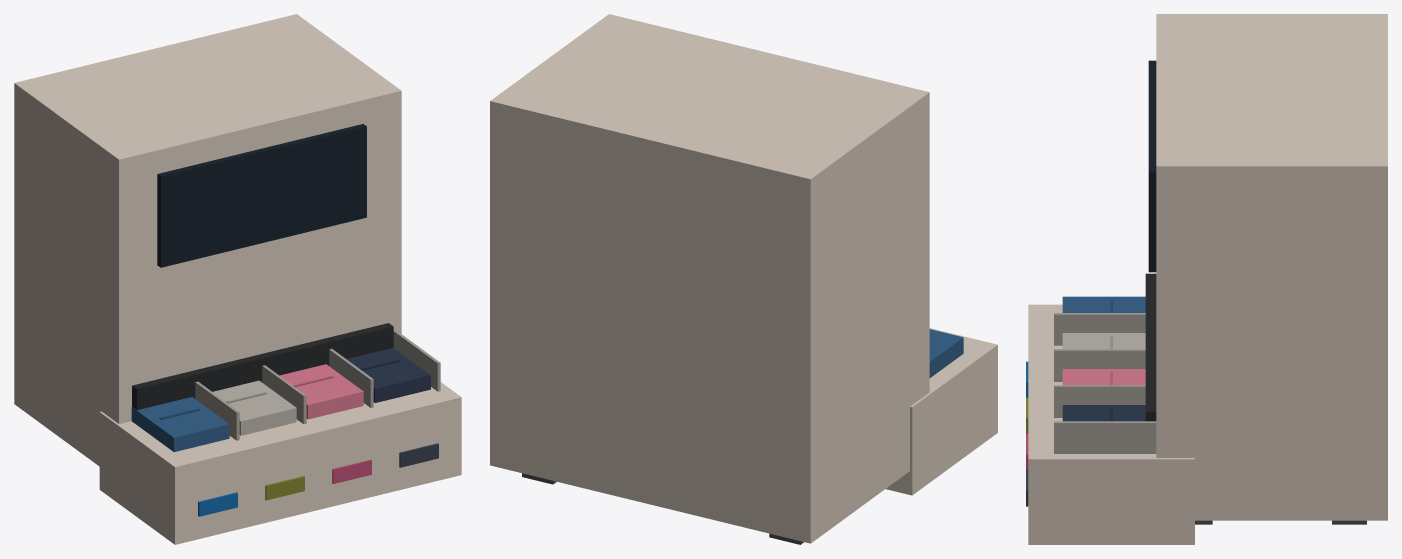
3 views of the same model, side by side, from view 1: azimuth 30°, elevation 25°; view 2: azimuth 150°, elevation 25°; view 3: azimuth 270°, elevation 25° (orthographic). The views are drawn at different scales.
Visible parts, largest first — view 1: Main housing, Sorting drawer, Touch display, Drawer opening, Alex · folded denim, Mom · folded shirt, Dad · folded denim, Sam · folded knit, Drawer divider 4, Drawer divider 1, Drawer divider 2, Drawer divider 3 (+4 smaller); view 2: Main housing, Sorting drawer, Alex · folded denim; view 3: Main housing, Sorting drawer, Drawer divider 4, Drawer divider 1, Drawer divider 2, Drawer divider 3, Touch display, Drawer opening, Alex · folded denim, Mom · folded shirt, Dad · folded denim, Sam · folded knit.
Part boxes in pixels (x1=…): Main housing: x1=14, y1=14, x2=401, y2=466; Sorting drawer: x1=99, y1=382, x2=461, y2=544; Touch display: x1=157, y1=124, x2=366, y2=267; Drawer opening: x1=132, y1=323, x2=393, y2=410; Alex · folded denim: x1=131, y1=397, x2=229, y2=451; Mom · folded shirt: x1=279, y1=364, x2=363, y2=419; Dad · folded denim: x1=346, y1=348, x2=430, y2=402; Sam · folded knit: x1=213, y1=380, x2=296, y2=435; Drawer divider 4: x1=393, y1=329, x2=440, y2=391; Drawer divider 1: x1=195, y1=381, x2=239, y2=440; Drawer divider 2: x1=262, y1=365, x2=306, y2=424; Drawer divider 3: x1=329, y1=349, x2=373, y2=407; Main housing: x1=490, y1=14, x2=929, y2=543; Sorting drawer: x1=886, y1=328, x2=997, y2=495; Alex · folded denim: x1=929, y1=329, x2=963, y2=377; Main housing: x1=1156, y1=14, x2=1387, y2=520; Sorting drawer: x1=1028, y1=304, x2=1194, y2=544; Drawer divider 4: x1=1054, y1=421, x2=1156, y2=453; Drawer divider 1: x1=1054, y1=313, x2=1145, y2=345; Drawer divider 2: x1=1054, y1=349, x2=1145, y2=381; Drawer divider 3: x1=1054, y1=385, x2=1145, y2=417; Touch display: x1=1148, y1=60, x2=1156, y2=272; Drawer opening: x1=1145, y1=273, x2=1156, y2=421; Alex · folded denim: x1=1062, y1=296, x2=1145, y2=312; Mom · folded shirt: x1=1062, y1=369, x2=1145, y2=385; Dad · folded denim: x1=1062, y1=405, x2=1145, y2=421; Sam · folded knit: x1=1062, y1=333, x2=1145, y2=348.
Size of the model in its own units: 3.55 by 4.05 by 3.52.
